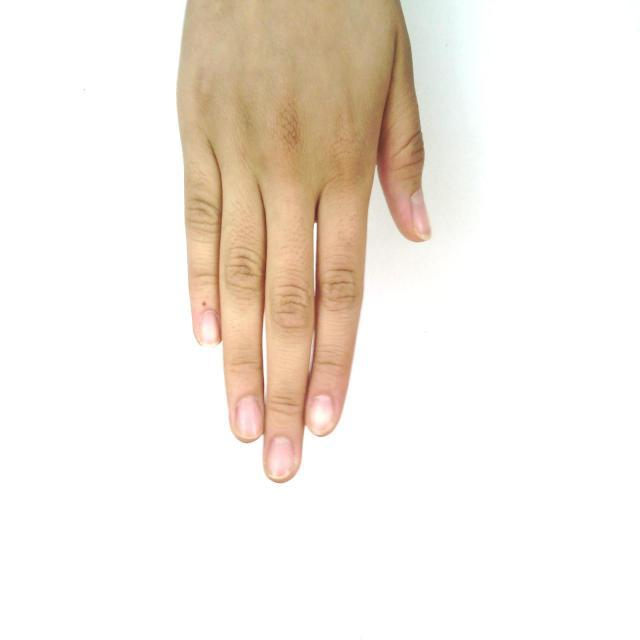Fingernail: (267, 436, 294, 479), (236, 398, 262, 440), (308, 395, 333, 434), (412, 190, 430, 238), (199, 310, 219, 345)
